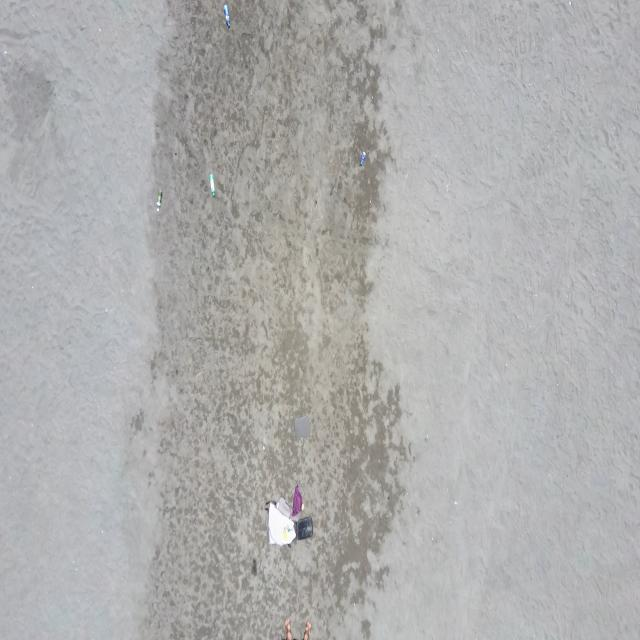Garbage: (268, 504, 295, 544), (293, 517, 312, 539), (291, 484, 303, 516), (293, 415, 310, 436), (223, 3, 230, 28), (209, 172, 215, 196), (359, 151, 366, 166), (156, 192, 161, 211)
